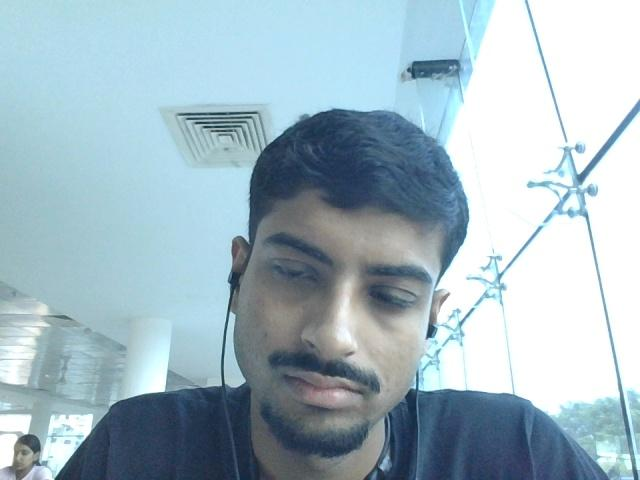nervous: (208, 108, 468, 445)
